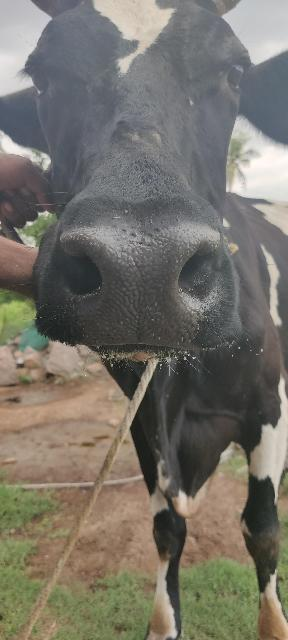Muzzle: (68, 231, 212, 349)
